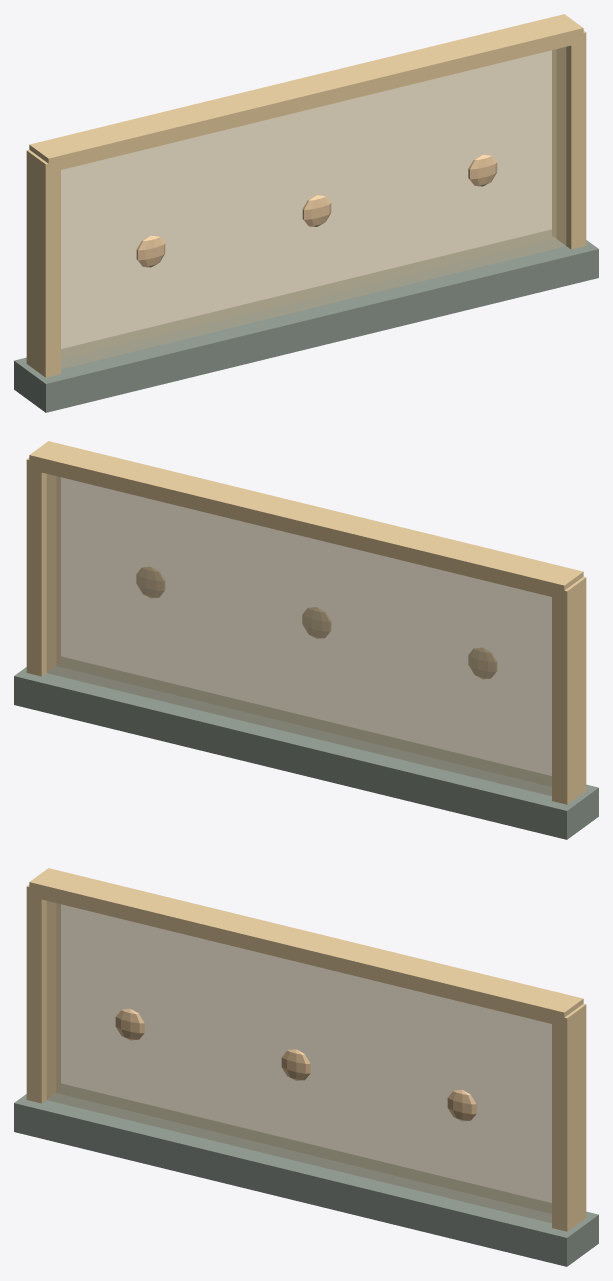
The model's file is escudo_embestida.glb.
3 views of the same model, one above another, from view 1: azimuth 30°, elevation 25°; view 2: azimuth 150°, elevation 25°; view 3: azimuth 330°, elevation 25° (orthographic).
Visible parts, largest first — view 1: escudo_embestida; view 2: escudo_embestida; view 3: escudo_embestida.
Boxes of the visible parts, box(x1,y1,x2,y2) form: escudo_embestida: box(14, 14, 598, 412); escudo_embestida: box(14, 441, 598, 839); escudo_embestida: box(14, 868, 598, 1266).
Bounding box in the file's own units: 4 × 1.71 × 0.4.
